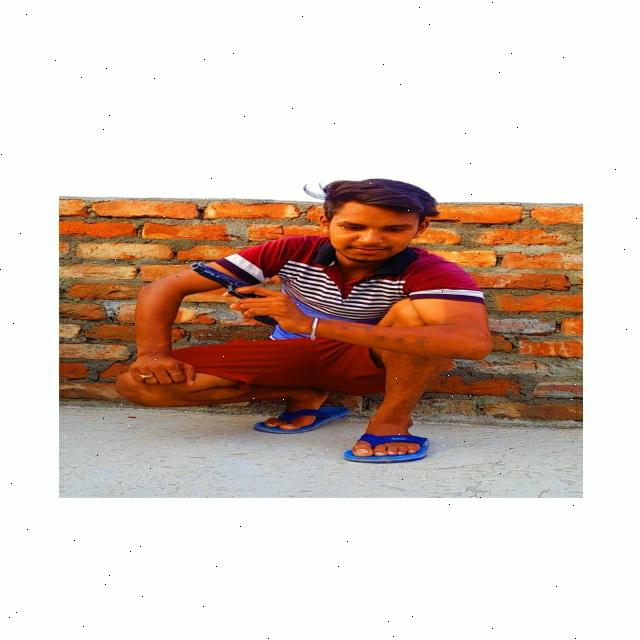gun: (170, 252, 296, 326)
